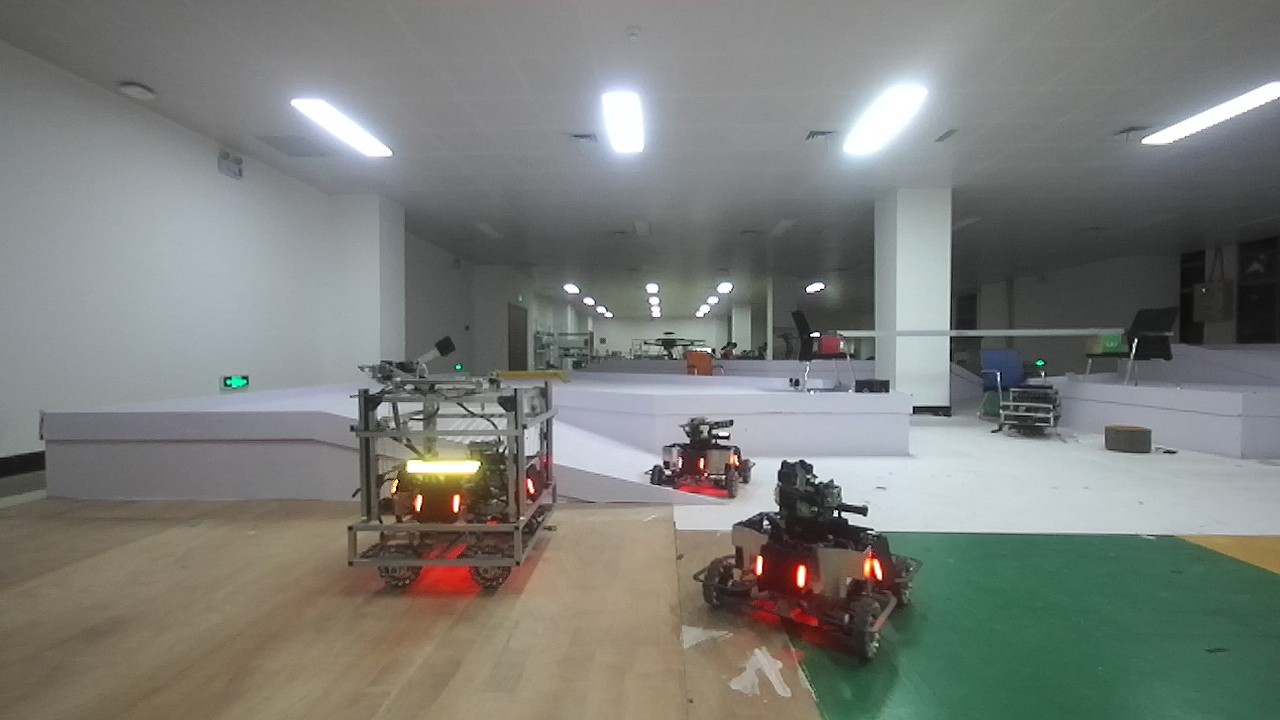car: (338, 353, 571, 599), (697, 449, 925, 662), (638, 408, 761, 503)
